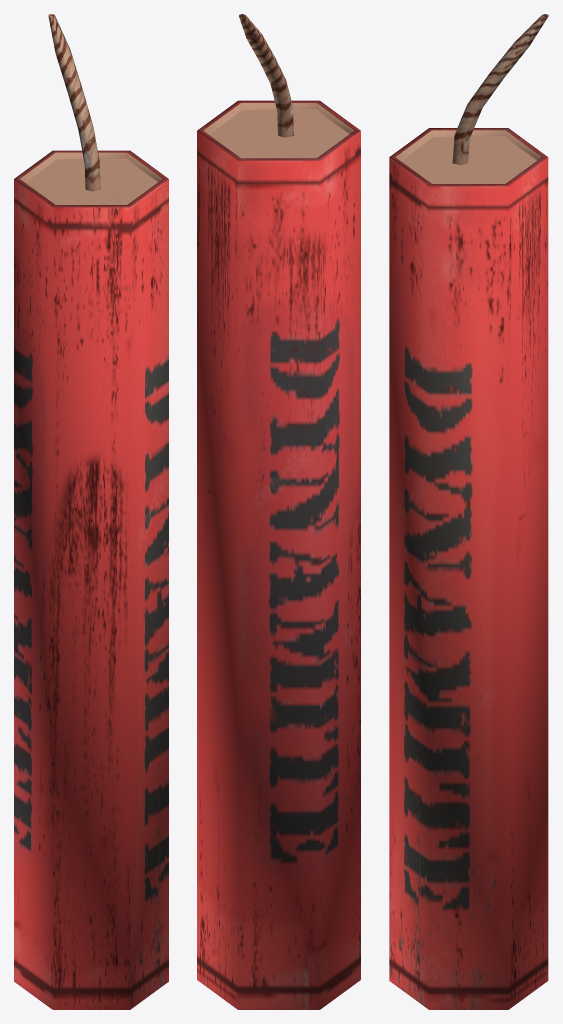
Rendered from один динамит.fbx.
The picture shows the model from 3 angles, left to right: view 1: azimuth 30°, elevation 25°; view 2: azimuth 150°, elevation 25°; view 3: azimuth 270°, elevation 25°; orthographic projection. The views are drawn at different scales.
Visible parts, largest first — view 1: один динамит; view 2: один динамит; view 3: один динамит.
Part boxes in pixels (x1,y1,x2,y2): один динамит: (14, 14, 168, 1009); один динамит: (197, 14, 360, 1009); один динамит: (389, 14, 548, 1009).
Size of the model in its own units: 418 by 3234 by 484.
Materials: 1 (1 with a texture image).
